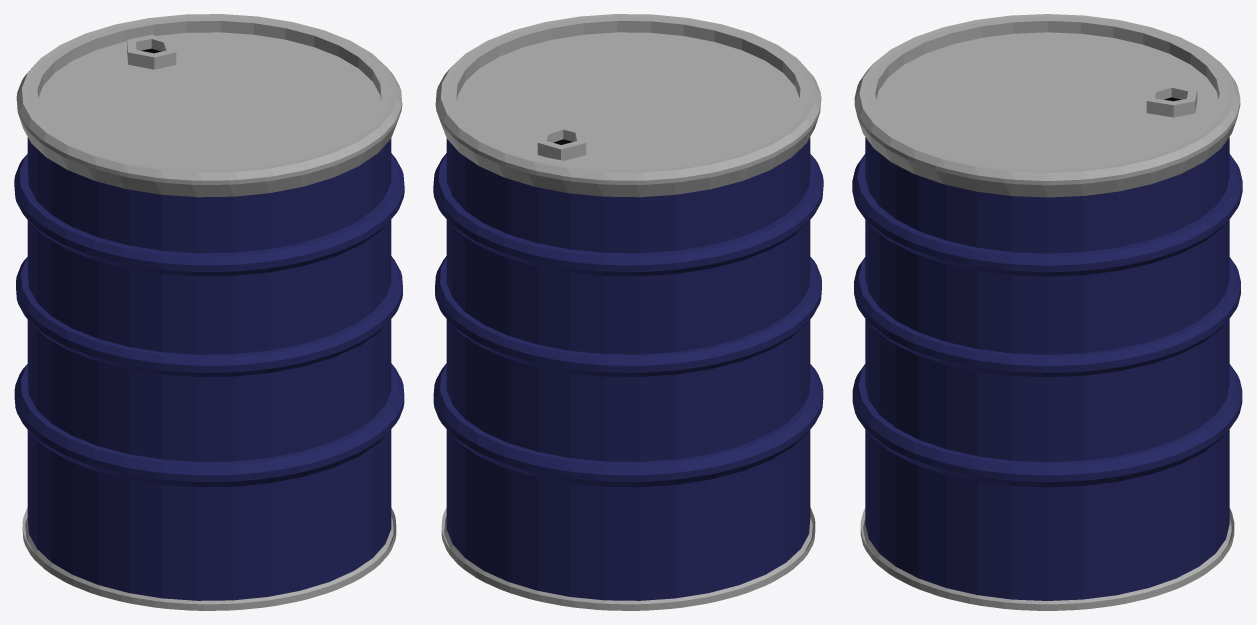
Rendered from Barrel (1).fbx.
3 renders of one model, left to right at view 1: azimuth 30°, elevation 25°; view 2: azimuth 150°, elevation 25°; view 3: azimuth 270°, elevation 25°, orthographic.
Visible parts, largest first — view 1: Cylinder; view 2: Cylinder; view 3: Cylinder.
Boxes of the visible parts, bbox=[...] form: Cylinder: bbox=[14, 14, 404, 610]; Cylinder: bbox=[433, 14, 823, 610]; Cylinder: bbox=[852, 14, 1242, 610].
Bounding box in the file's own units: 241 × 300 × 241.
